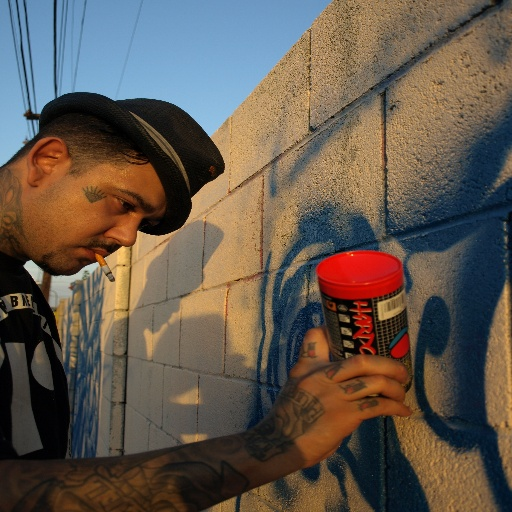hand: (251, 324, 413, 469)
